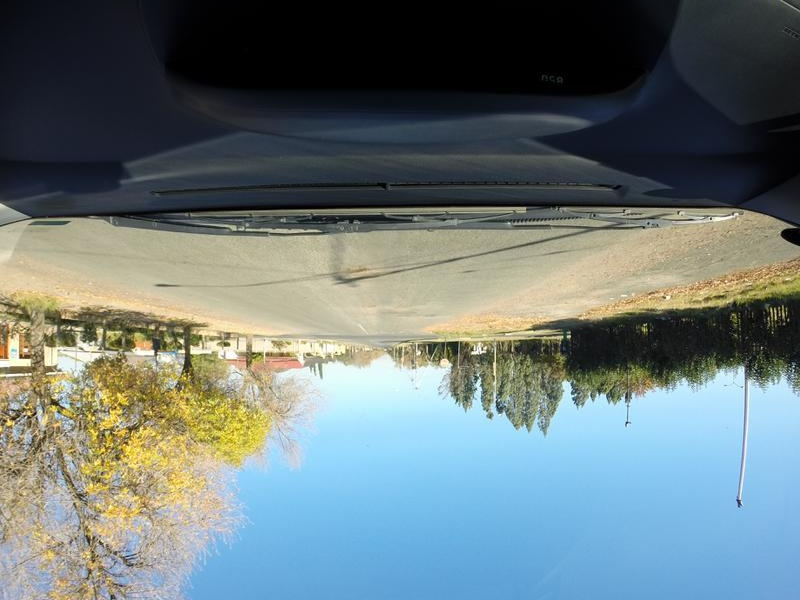pothole: (330, 258, 378, 281)
